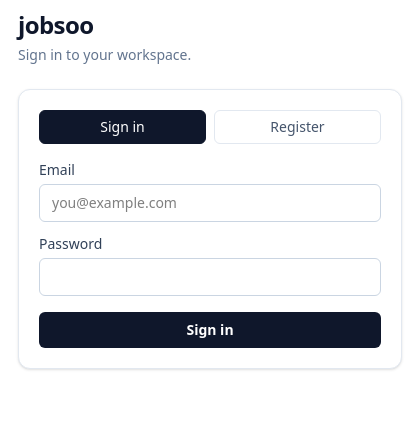
Auth screen › surfaces backend errors (e.g. wrong password)
Type "test@example.com" into the field labelled "Email".
click(210, 203); type("test@example.com")  # box [39, 184, 381, 222]
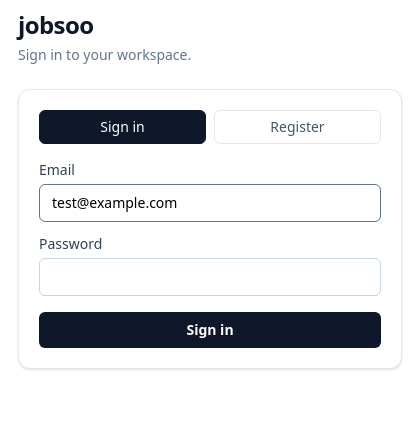
Type "wrong-pass" into the password field labelled "Password".
click(210, 277); type("wrong-pass")  # box [39, 258, 381, 296]
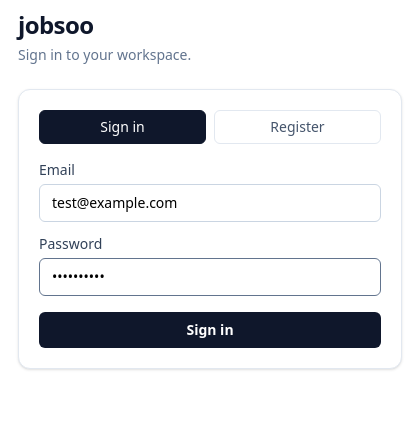
Click the button with test id "auth-submit".
click(210, 330)  # box [39, 312, 381, 348]
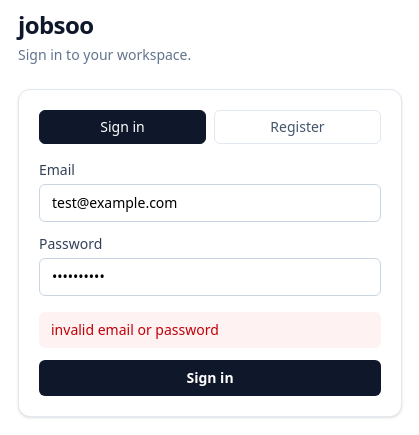
Result: the message reads "invalid email or password" at [51, 320, 219, 339]
